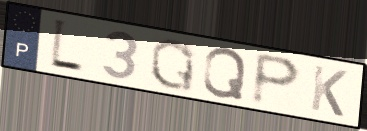3: (100, 29, 142, 82)
K: (308, 63, 350, 120)
L: (47, 15, 86, 76)
P: (248, 50, 304, 108)
Q: (148, 36, 197, 95), (200, 46, 249, 102)
